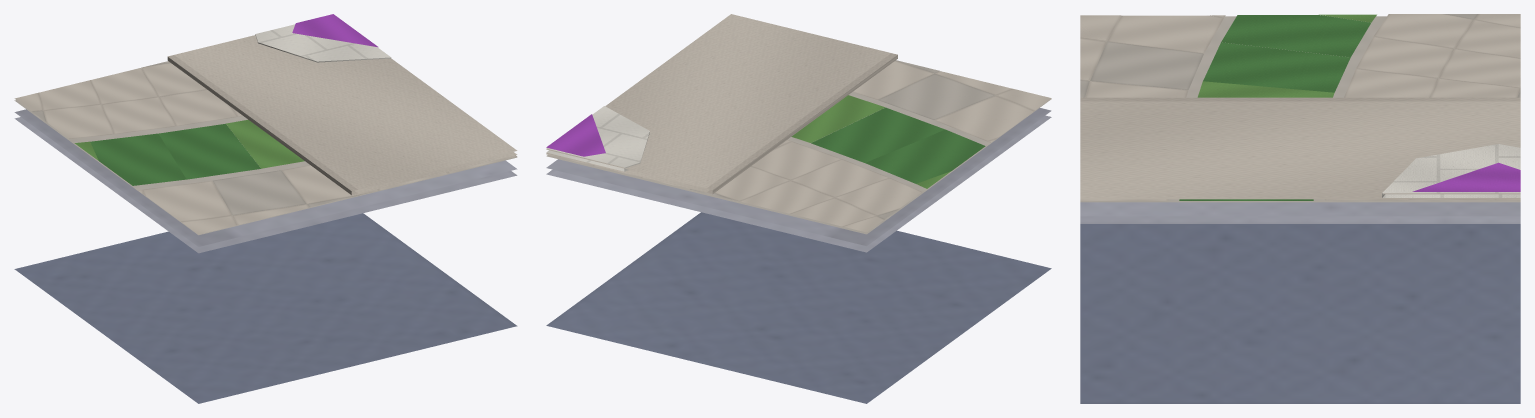
Rendered from high_crown_fracture_30.obj.
3 views of the same model, side by side, from view 1: azimuth 30°, elevation 25°; view 2: azimuth 150°, elevation 25°; view 3: azimuth 270°, elevation 25° (orthographic). The views are drawn at different scales.
Parts seen in each view (by area): view 1: ArenaFracture30; view 2: ArenaFracture30; view 3: ArenaFracture30.
Boxes of the visible parts, x1,y1,x2,y2 form: ArenaFracture30: [14, 14, 517, 403]; ArenaFracture30: [546, 14, 1051, 403]; ArenaFracture30: [1080, 14, 1520, 403].
Size of the model in its own units: 10 by 5.31 by 10.
Materials: 8 (8 with a texture image).
